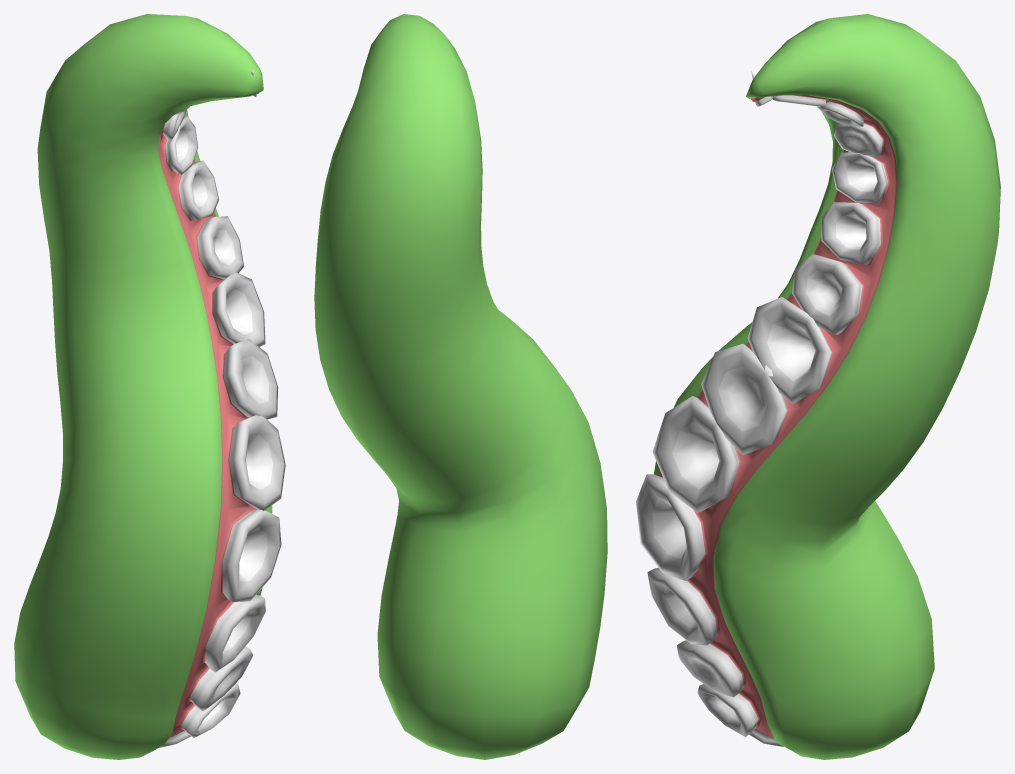
The model's file is Tentacle_Big04.fbx.
3 renders of one model, left to right at view 1: azimuth 30°, elevation 25°; view 2: azimuth 150°, elevation 25°; view 3: azimuth 270°, elevation 25°, orthographic. The views are drawn at different scales.
Visible parts, largest first — view 1: TentacleCurve_Big04.001; view 2: TentacleCurve_Big04.001; view 3: TentacleCurve_Big04.001.
Boxes of the visible parts, bbox=[...] form: TentacleCurve_Big04.001: bbox=[14, 14, 285, 759]; TentacleCurve_Big04.001: bbox=[314, 14, 607, 759]; TentacleCurve_Big04.001: bbox=[636, 14, 1000, 759].
Bounding box in the file's own units: 279 × 802 × 348.
